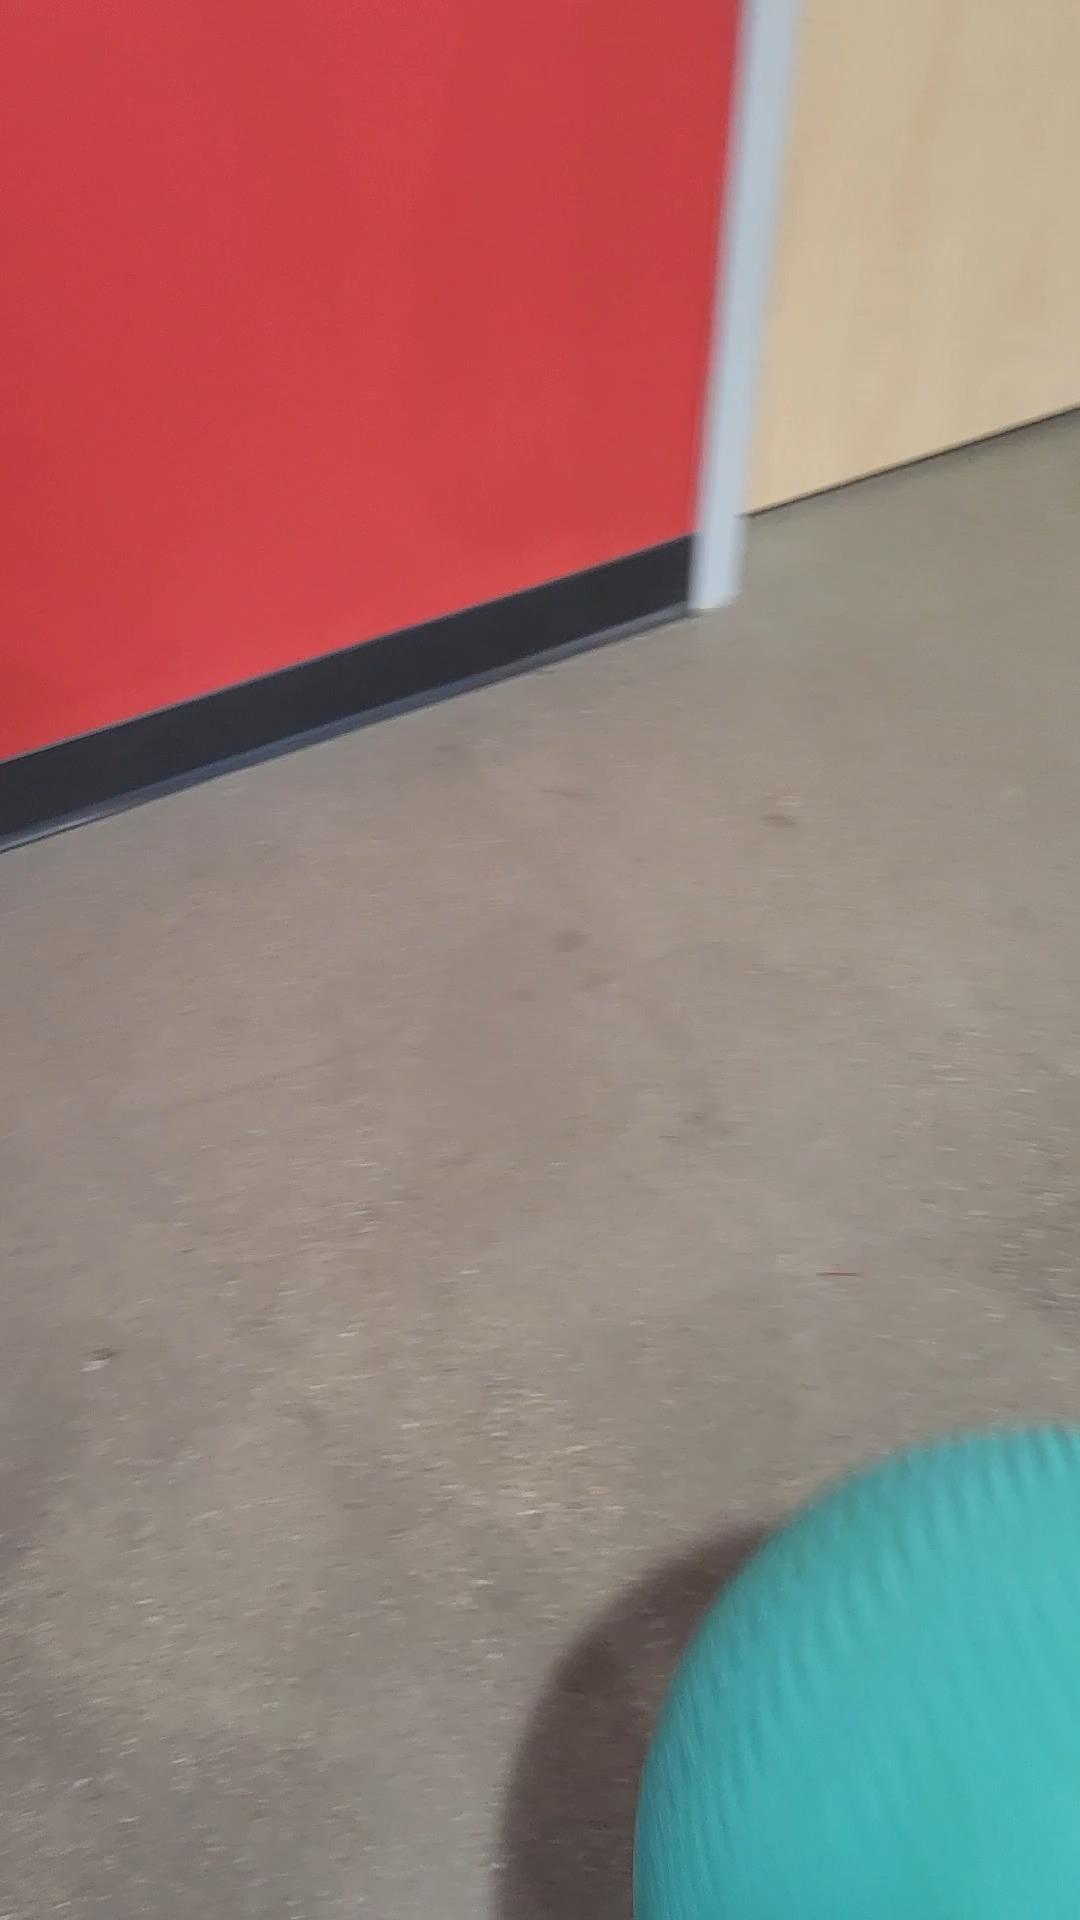algae: (641, 1421, 1080, 1920)
